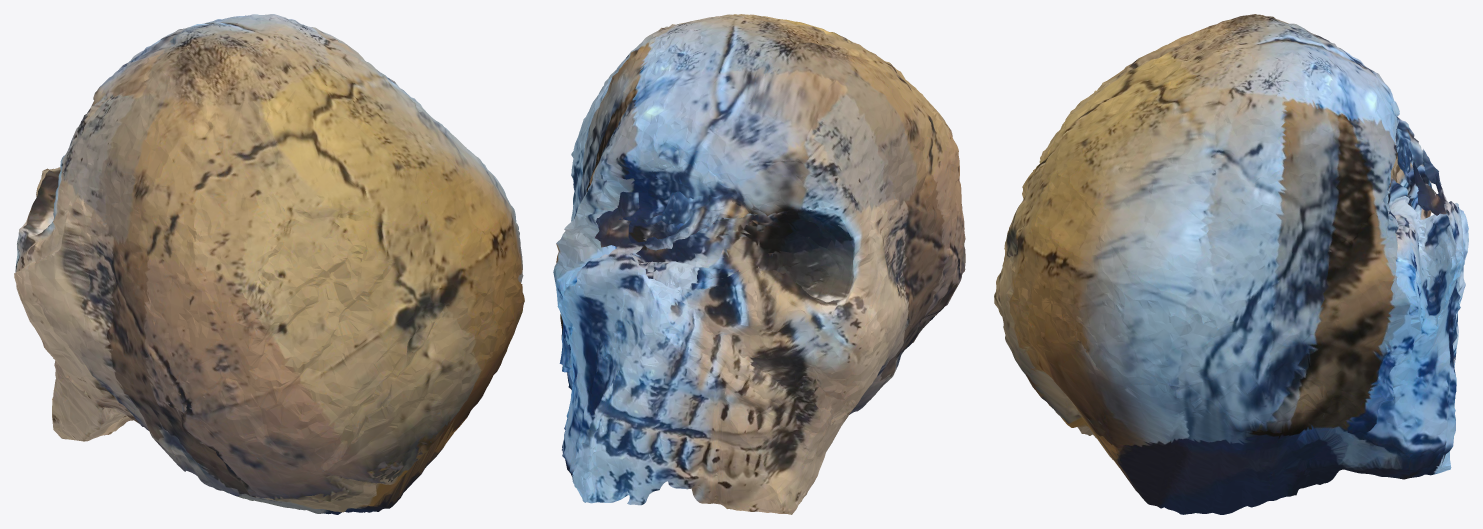
The model's file is caveira-fotogrametria.glb.
3 views of the same model, side by side, from view 1: azimuth 30°, elevation 25°; view 2: azimuth 150°, elevation 25°; view 3: azimuth 270°, elevation 25° (orthographic). The views are drawn at different scales.
Visible parts, largest first — view 1: Caveira — fotogrametria do vídeo — altura 10 cm; view 2: Caveira — fotogrametria do vídeo — altura 10 cm; view 3: Caveira — fotogrametria do vídeo — altura 10 cm.
Part boxes in pixels (box(x1,y1,x2,y2)): Caveira — fotogrametria do vídeo — altura 10 cm: box(14, 14, 524, 514); Caveira — fotogrametria do vídeo — altura 10 cm: box(553, 14, 965, 514); Caveira — fotogrametria do vídeo — altura 10 cm: box(994, 14, 1468, 514).
Bounding box in the file's own units: 0.086 × 0.1 × 0.0975.
1 material, 1 textured.
